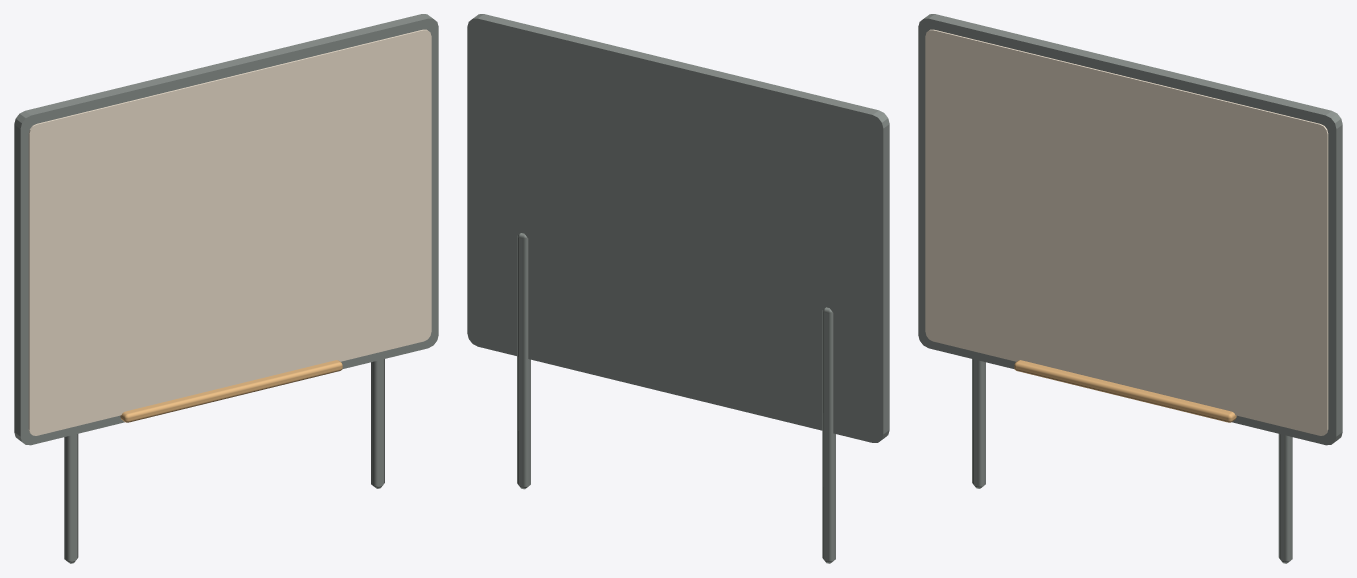
File: kit_whiteboard_v1.glb
The picture shows the model from 3 angles, left to right: view 1: azimuth 30°, elevation 25°; view 2: azimuth 150°, elevation 25°; view 3: azimuth 330°, elevation 25°; orthographic projection.
Visible parts, largest first — view 1: body; view 2: body; view 3: body.
Boxes of the visible parts, bbox=[...] form: body: bbox=[14, 14, 438, 563]; body: bbox=[467, 14, 889, 563]; body: bbox=[918, 14, 1342, 563].
Size of the model in its own units: 1.8 by 1.9 by 0.1.
